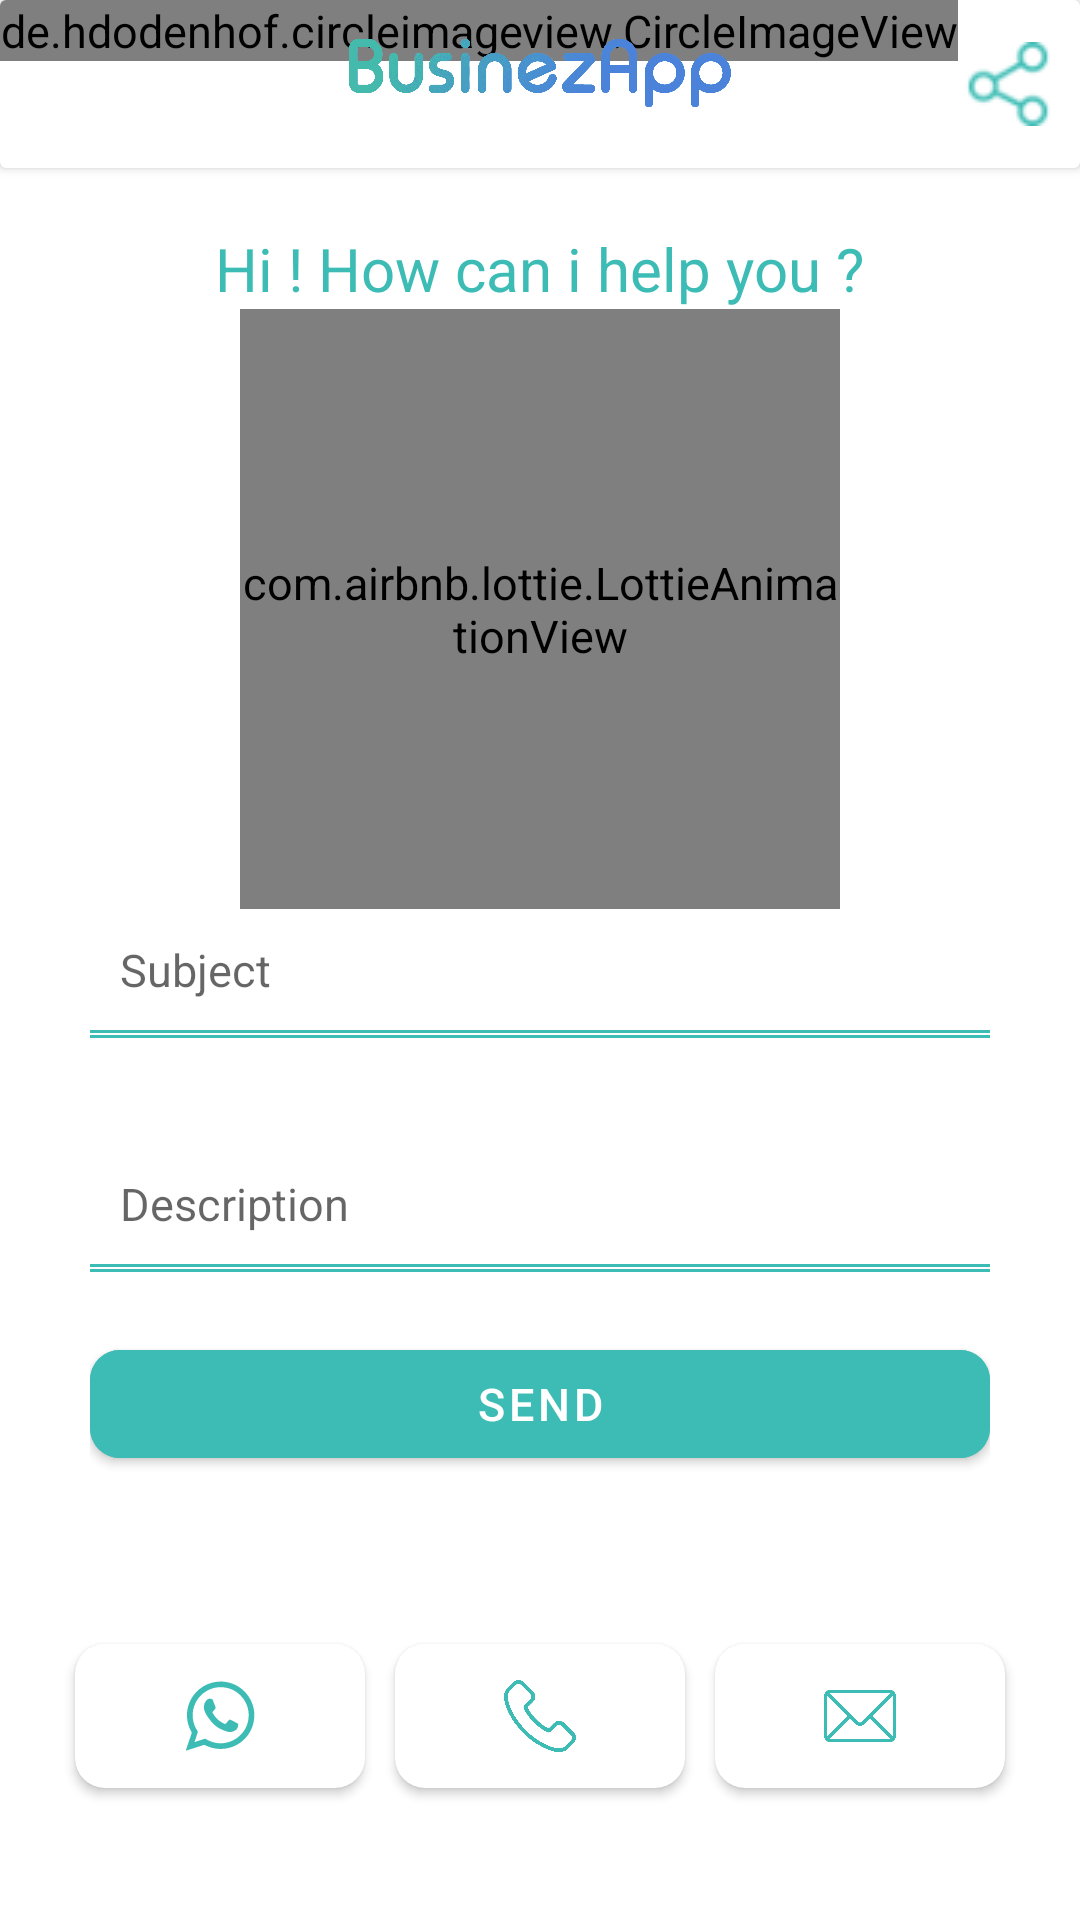

Icons on this 1080px x 1920px Android screen, each with its box as Rect(x1, y1, x2, y2):
mail: Rect(824, 1690, 896, 1742)
share: Rect(968, 42, 1048, 126)
telephone: Rect(504, 1680, 576, 1752)
